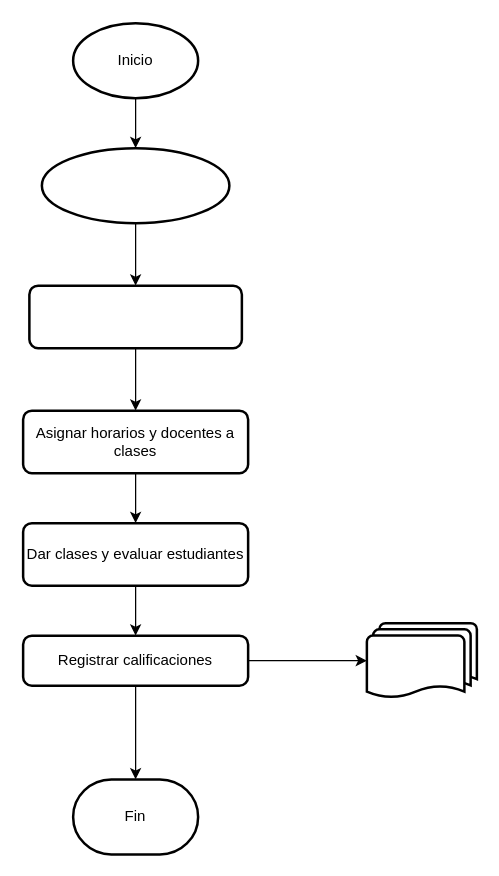
The diagram is 499 pixels wide and 876 high, and some of its shapes have lost their labels. Each missing label, with the centre of its shape:
Definir plan de estudios: pixel 135 316
Director de carrera: pixel 135 185
Legajo: pixel 421 660
